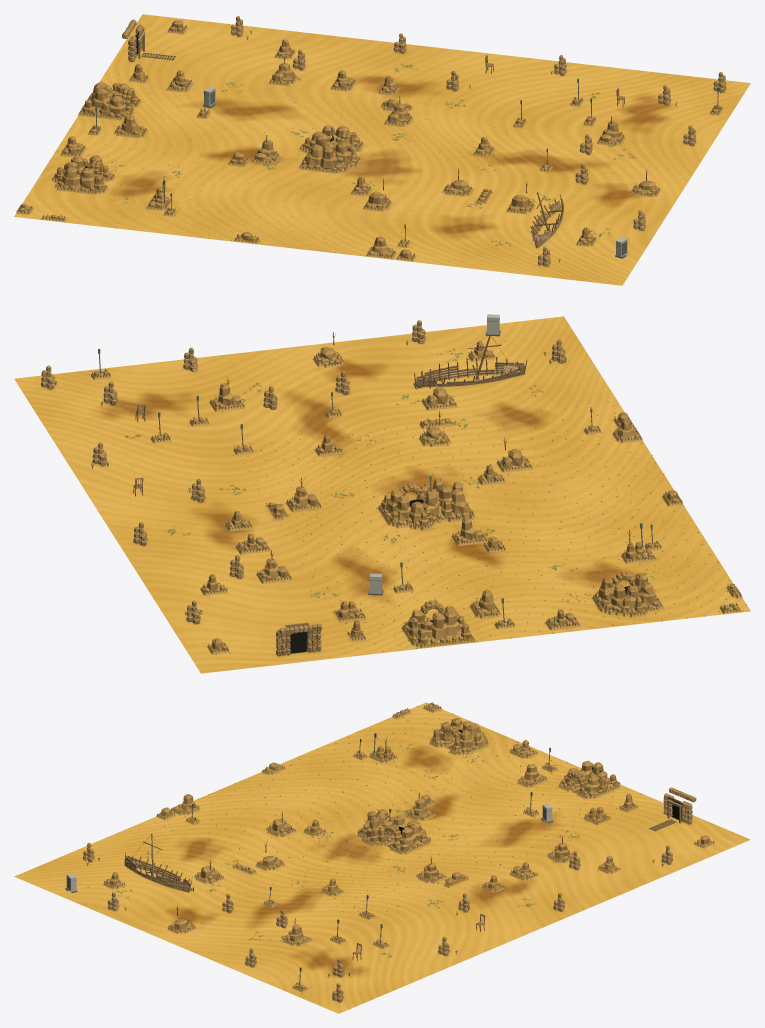
Rendered from hm16-terrain-props.glb.
The picture shows the model from 3 angles, top to bottom: view 1: azimuth 30°, elevation 25°; view 2: azimuth 150°, elevation 25°; view 3: azimuth 270°, elevation 25°; orthographic projection. The views are drawn at different scales.
Visible parts, largest first — view 1: HM16-chunk-2-2, HM16-chunk-0-0, HM16-chunk-4-1, HM16-chunk-0-5, HM16-chunk-4-0, HM16-chunk-3-5, HM16-chunk-4-3, HM16-chunk-1-4, HM16-chunk-1-3, HM16-chunk-0-1, HM16-chunk-3-3, HM16-chunk-3-1 (+24 smaller); view 2: HM16-chunk-3-2, HM16-chunk-4-1, HM16-chunk-1-4, HM16-chunk-5-0, HM16-chunk-2-1, HM16-chunk-1-0, HM16-chunk-3-4, HM16-chunk-4-4, HM16-chunk-0-5, HM16-chunk-0-4, HM16-chunk-1-2, HM16-chunk-4-3 (+24 smaller); view 3: HM16-chunk-1-0, HM16-chunk-4-0, HM16-chunk-3-0, HM16-chunk-0-5, HM16-chunk-4-1, HM16-chunk-3-2, HM16-chunk-1-5, HM16-chunk-0-3, HM16-chunk-3-5, HM16-chunk-5-0, HM16-chunk-4-3, HM16-chunk-3-3 (+24 smaller).
Boxes of the visible parts, box(x1,y1,x2,y2) form: HM16-chunk-2-2: box(260, 125, 382, 183); HM16-chunk-0-0: box(14, 168, 136, 228); HM16-chunk-4-1: box(201, 39, 353, 104); HM16-chunk-0-5: box(521, 213, 643, 285); HM16-chunk-4-0: box(100, 23, 222, 93); HM16-chunk-3-5: box(588, 116, 707, 184); HM16-chunk-4-3: box(407, 54, 526, 127); HM16-chunk-1-4: box(441, 181, 561, 239); HM16-chunk-1-3: box(340, 176, 461, 228); HM16-chunk-0-1: box(116, 177, 237, 239); HM16-chunk-3-3: box(382, 104, 504, 161); HM16-chunk-3-1: box(180, 79, 301, 138); HM16-chunk-3-2: box(291, 477, 413, 554); HM16-chunk-4-1: box(200, 535, 351, 613); HM16-chunk-1-4: box(412, 334, 534, 434); HM16-chunk-5-0: box(170, 600, 292, 673); HM16-chunk-2-1: box(414, 511, 536, 593); HM16-chunk-1-0: box(537, 571, 658, 631); HM16-chunk-3-4: box(204, 386, 350, 455); HM16-chunk-4-4: box(137, 395, 259, 466); HM16-chunk-0-5: box(467, 314, 594, 373); HM16-chunk-0-4: box(503, 360, 624, 424); HM16-chunk-1-2: box(474, 474, 596, 533); HM16-chunk-4-3: box(133, 456, 290, 515); HM16-chunk-1-0: box(412, 718, 533, 776); HM16-chunk-4-0: box(574, 787, 696, 845); HM16-chunk-3-0: box(520, 760, 641, 822); HM16-chunk-0-5: box(14, 843, 140, 899); HM16-chunk-4-1: box(506, 823, 627, 877); HM16-chunk-3-2: box(383, 827, 504, 878); HM16-chunk-1-5: box(68, 860, 190, 922); HM16-chunk-0-3: box(152, 789, 273, 841); HM16-chunk-3-5: box(177, 916, 303, 967); HM16-chunk-5-0: box(628, 795, 750, 868); HM16-chunk-4-3: box(368, 877, 489, 932); HM16-chunk-3-3: box(314, 858, 436, 909).
Bounding box in the file's own units: 144 × 9.21 × 144.
Materials: 2 (1 with a texture image).
